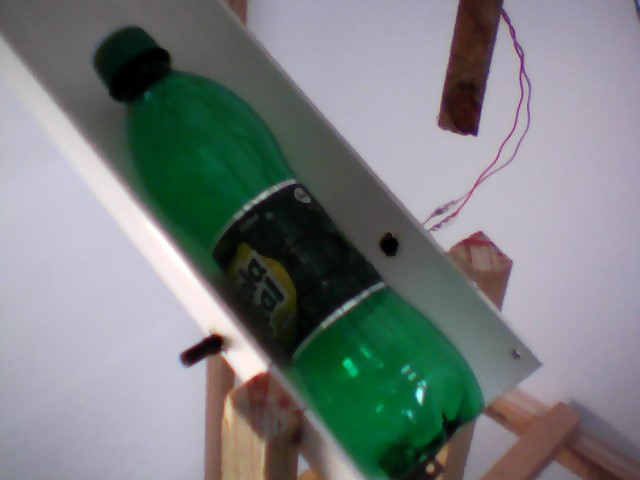plastico: (83, 20, 488, 480)
